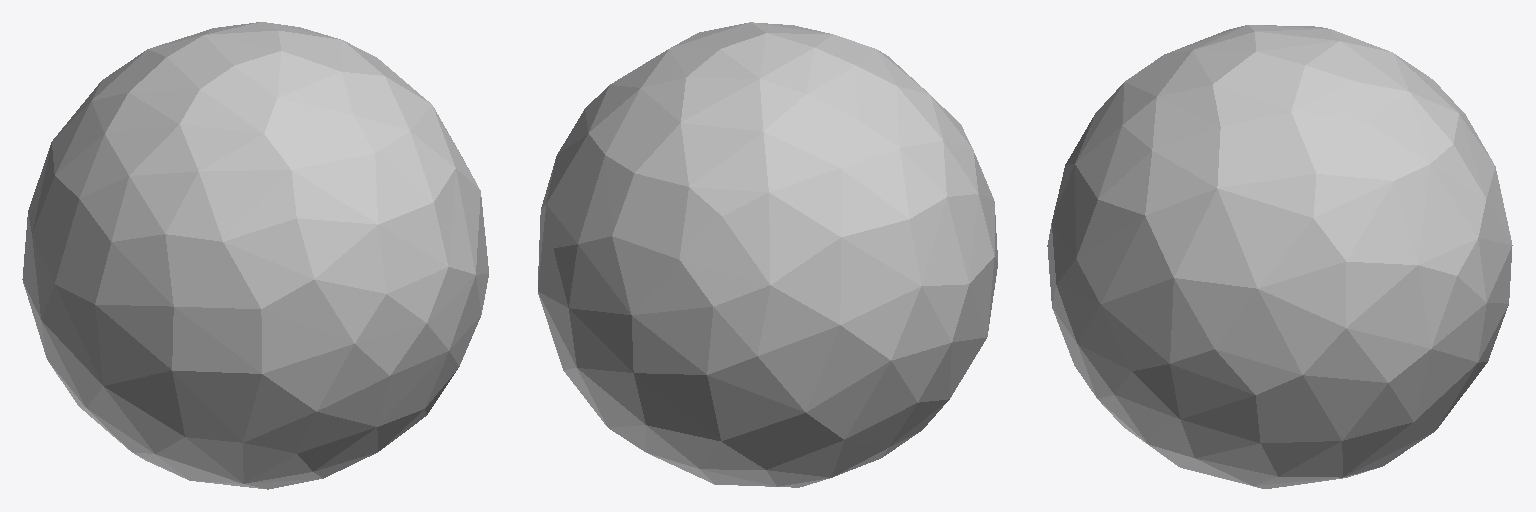
File: cubeLow.obj
3 renders of one model, left to right at view 1: azimuth 30°, elevation 25°; view 2: azimuth 150°, elevation 25°; view 3: azimuth 270°, elevation 25°, orthographic.
Visible parts, largest first — view 1: Sphere; view 2: Sphere; view 3: Sphere.
Boxes of the visible parts, box(x1,y1,x2,y2) form: Sphere: box(22, 22, 488, 489); Sphere: box(538, 22, 997, 487); Sphere: box(1047, 25, 1512, 488).
Bounding box in the file's own units: 2 × 2 × 2.